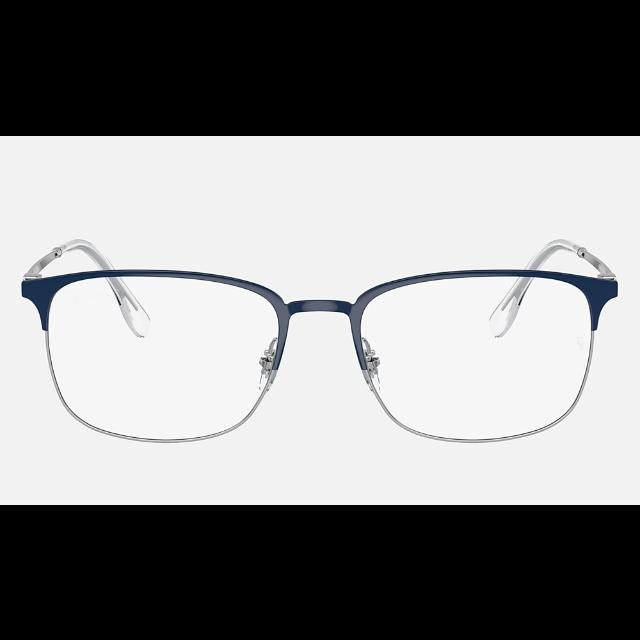glasses: (21, 234, 618, 442)
